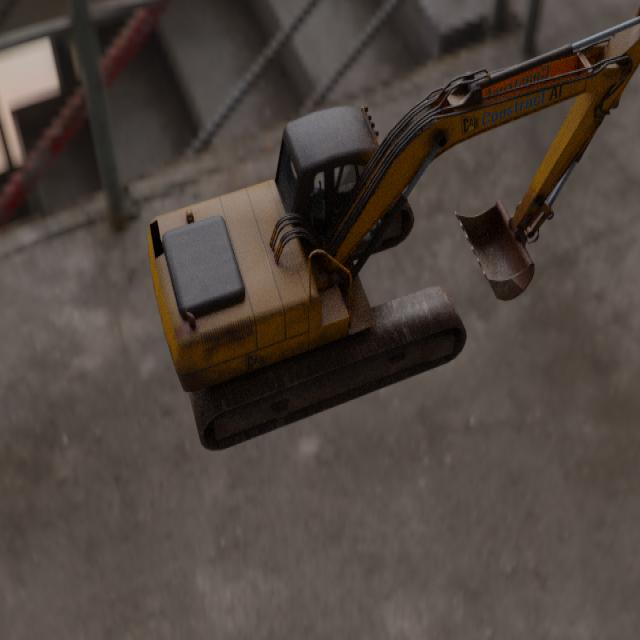excavator: (147, 7, 640, 450)
